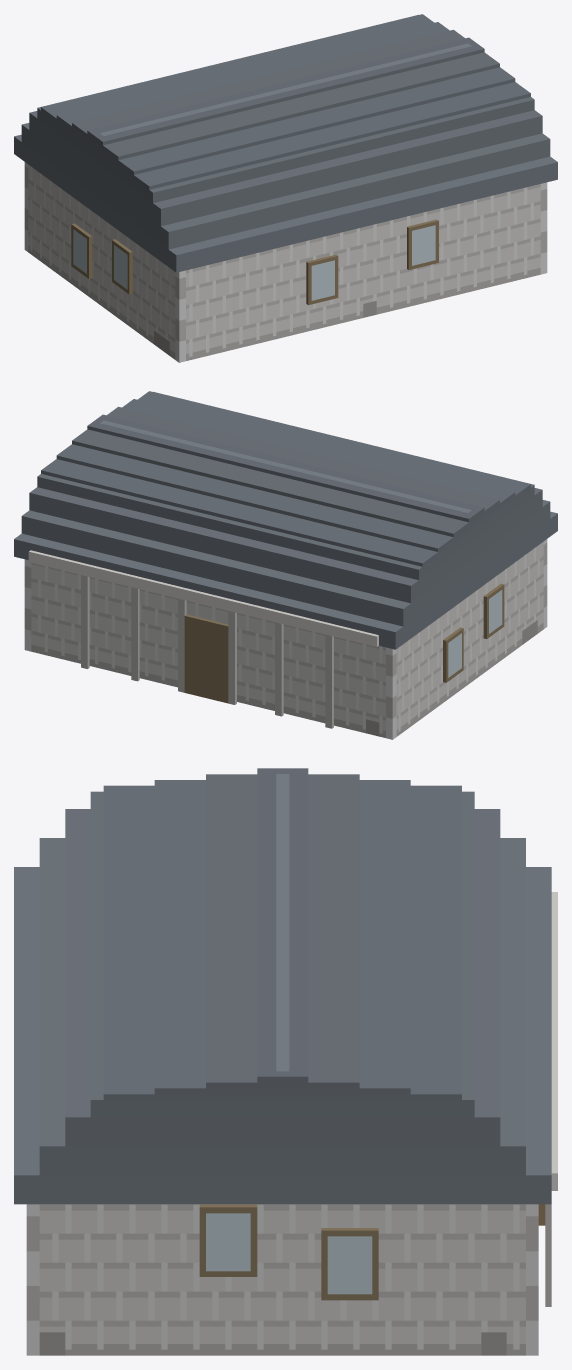
Rendered from banos_publicos_03.glb.
The picture shows the model from 3 angles, top to bottom: view 1: azimuth 30°, elevation 25°; view 2: azimuth 150°, elevation 25°; view 3: azimuth 270°, elevation 25°; orthographic projection. The views are drawn at different scales.
Visible parts, largest first — view 1: banos_publicos_03; view 2: banos_publicos_03; view 3: banos_publicos_03.
Boxes of the visible parts, x1,y1,x2,y2 form: banos_publicos_03: (14,14,557,362); banos_publicos_03: (14,391,557,739); banos_publicos_03: (14,768,557,1355).
Size of the model in its own units: 11.4 by 4.9 by 8.5.
